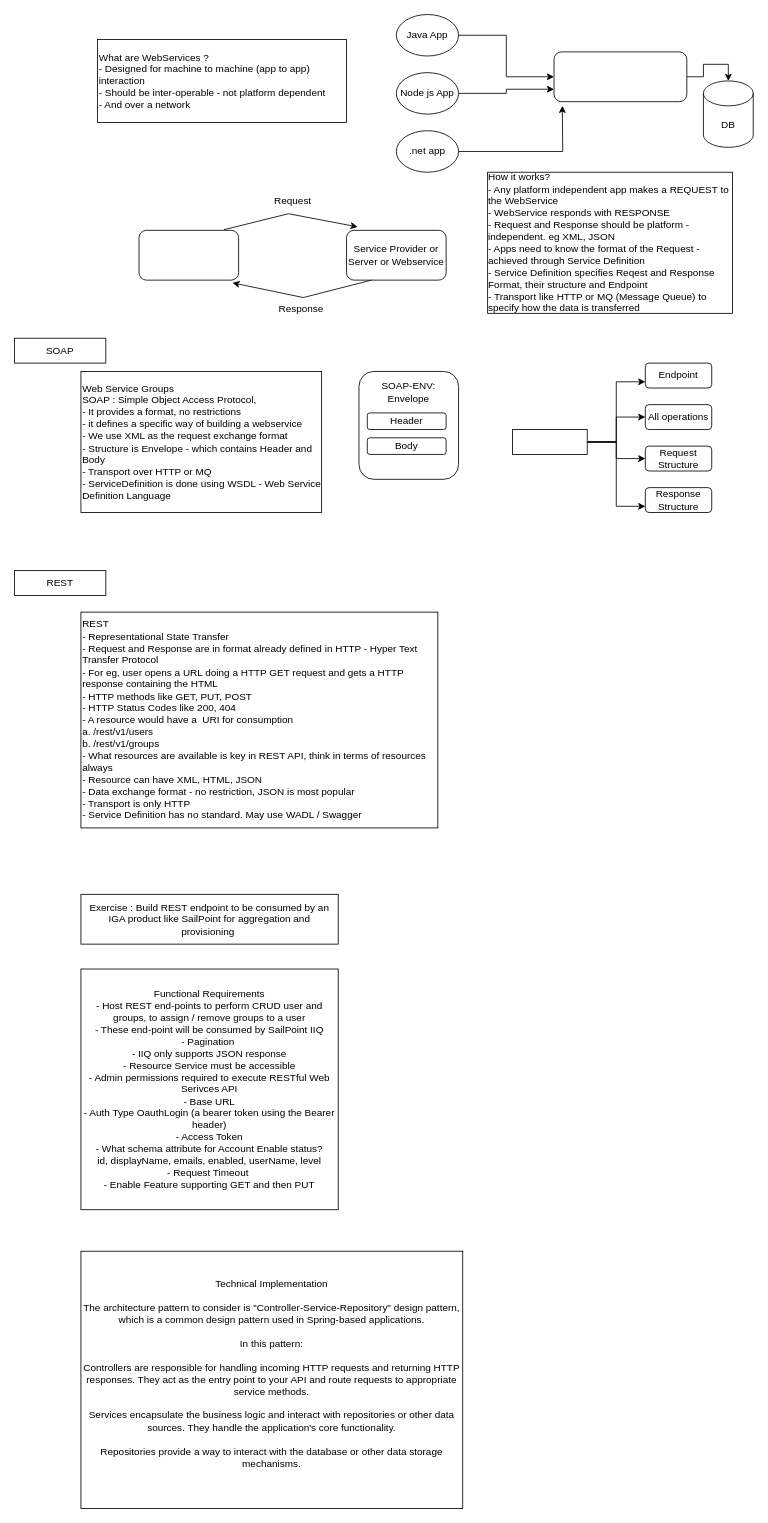
This 768x1523 diagram has some shape labels left out. The box of each missing label's shape, as (x1, y1, x2, y2) in pixels:
Client or Service Consumer: (138, 229, 239, 280)
HTTP GET url/rest/v1/users: (553, 51, 687, 102)
WSDL: (512, 429, 587, 454)
